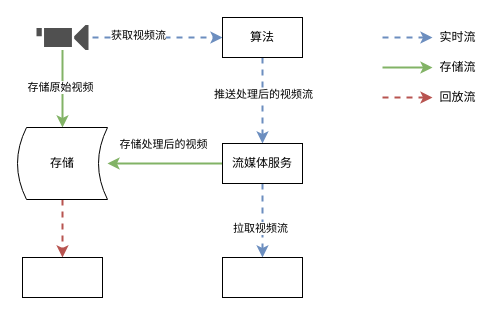
Some shapes in this 500 by 315 pixel diagram are drawn without their labels. The box of each missing label's shape, as (x1, y1, x2, y2) in pixels:
前端(回放): (22, 256, 102, 298)
前端(实时): (222, 256, 302, 298)
